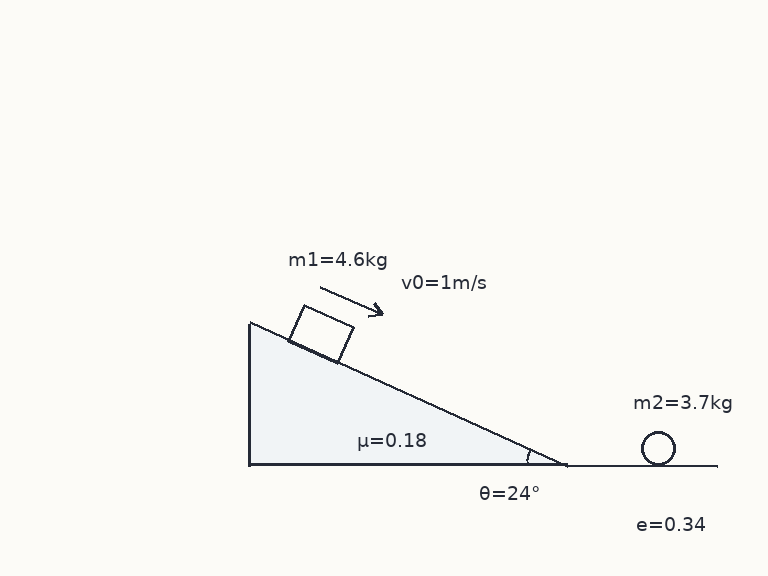ball: (639, 429, 677, 467)
block: (286, 303, 355, 365)
ramp: (247, 321, 569, 467)
